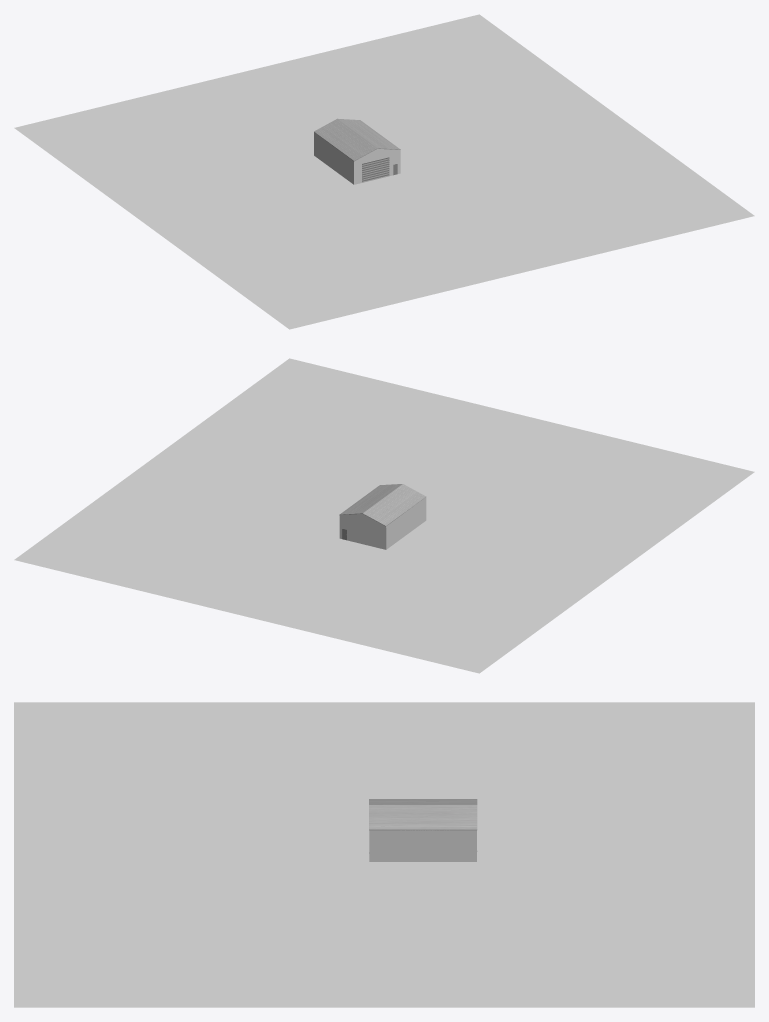
The picture shows the model from 3 angles, top to bottom: view 1: azimuth 30°, elevation 25°; view 2: azimuth 150°, elevation 25°; view 3: azimuth 270°, elevation 25°; orthographic projection. The views are drawn at different scales.
Visible parts, largest first — view 1: Plane.001, Plane, Roof, Wall_L, Wall_F, Door Bit; view 2: Plane, Plane.001, Roof, Wall_B, Wall_L; view 3: Plane.001, Plane, Roof, Wall_R.
Part boxes in pixels (box(x1,y1,x2,y2)): Plane.001: box(14, 14, 747, 324); Plane: box(21, 20, 754, 329); Roof: box(314, 118, 400, 161); Wall_L: box(314, 132, 353, 184); Wall_F: box(354, 148, 400, 184); Door Bit: box(362, 157, 389, 182); Plane: box(22, 358, 754, 668); Plane.001: box(14, 363, 747, 673); Roof: box(339, 484, 426, 526); Wall_B: box(339, 514, 386, 549); Wall_L: box(386, 497, 426, 549); Plane.001: box(32, 702, 754, 1007); Plane: box(14, 702, 736, 1007); Roof: box(369, 799, 477, 830); Wall_R: box(369, 830, 476, 861).
Bounding box in the file's own units: 103 × 105 × 6.55.
